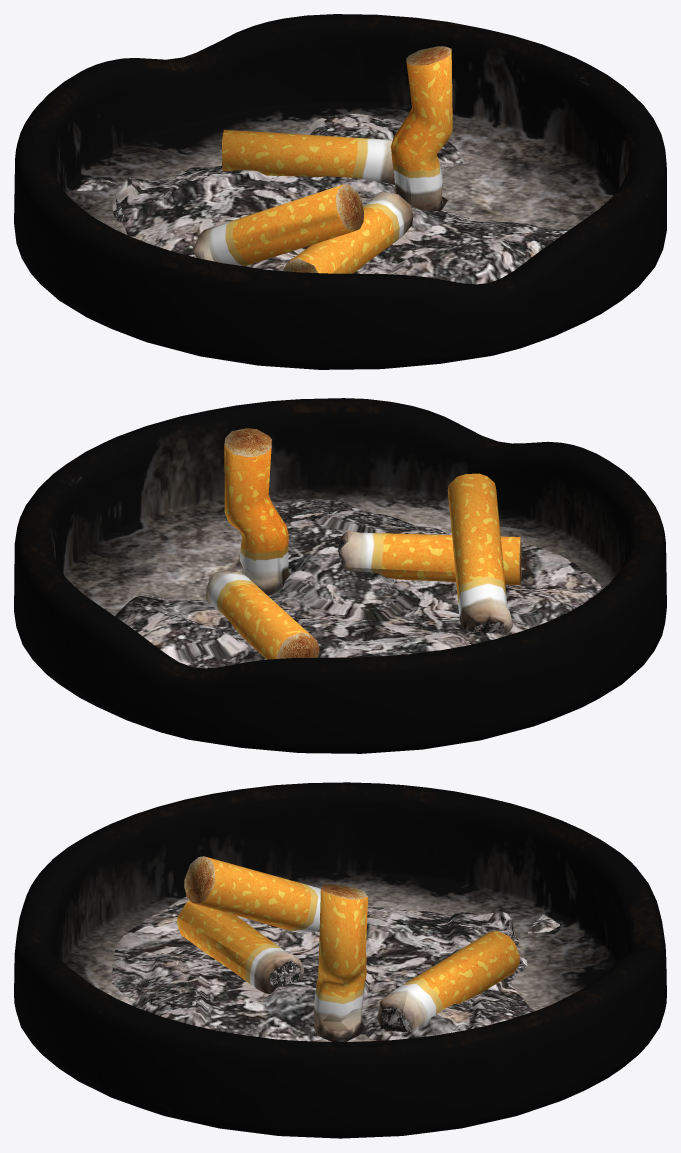
The model's file is ashtray_used.glb.
The picture shows the model from 3 angles, top to bottom: view 1: azimuth 30°, elevation 25°; view 2: azimuth 150°, elevation 25°; view 3: azimuth 270°, elevation 25°; orthographic projection.
Parts seen in each view (by area): view 1: Cylinder_0; view 2: Cylinder_0; view 3: Cylinder_0.
Part boxes in pixels (bbox=[...]): Cylinder_0: bbox=[14, 14, 666, 369]; Cylinder_0: bbox=[14, 398, 666, 753]; Cylinder_0: bbox=[14, 782, 666, 1138].
Bounding box in the file's own units: 2.6 × 0.7253 × 2.6.
2 materials, 2 textured.
